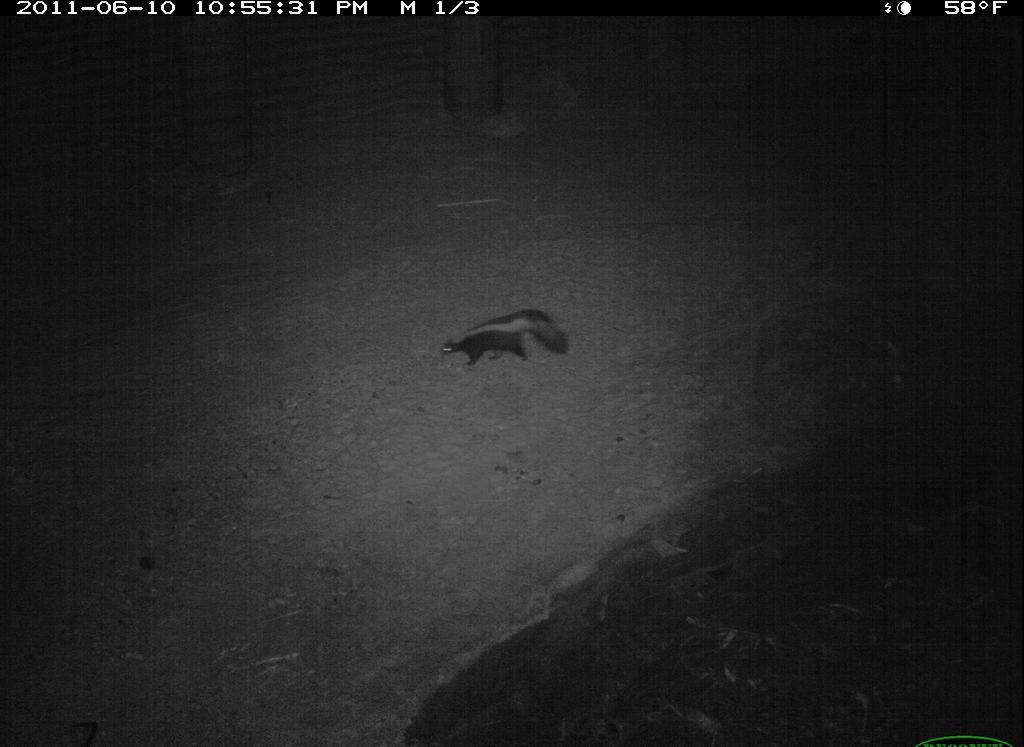skunk: (431, 305, 573, 372)
